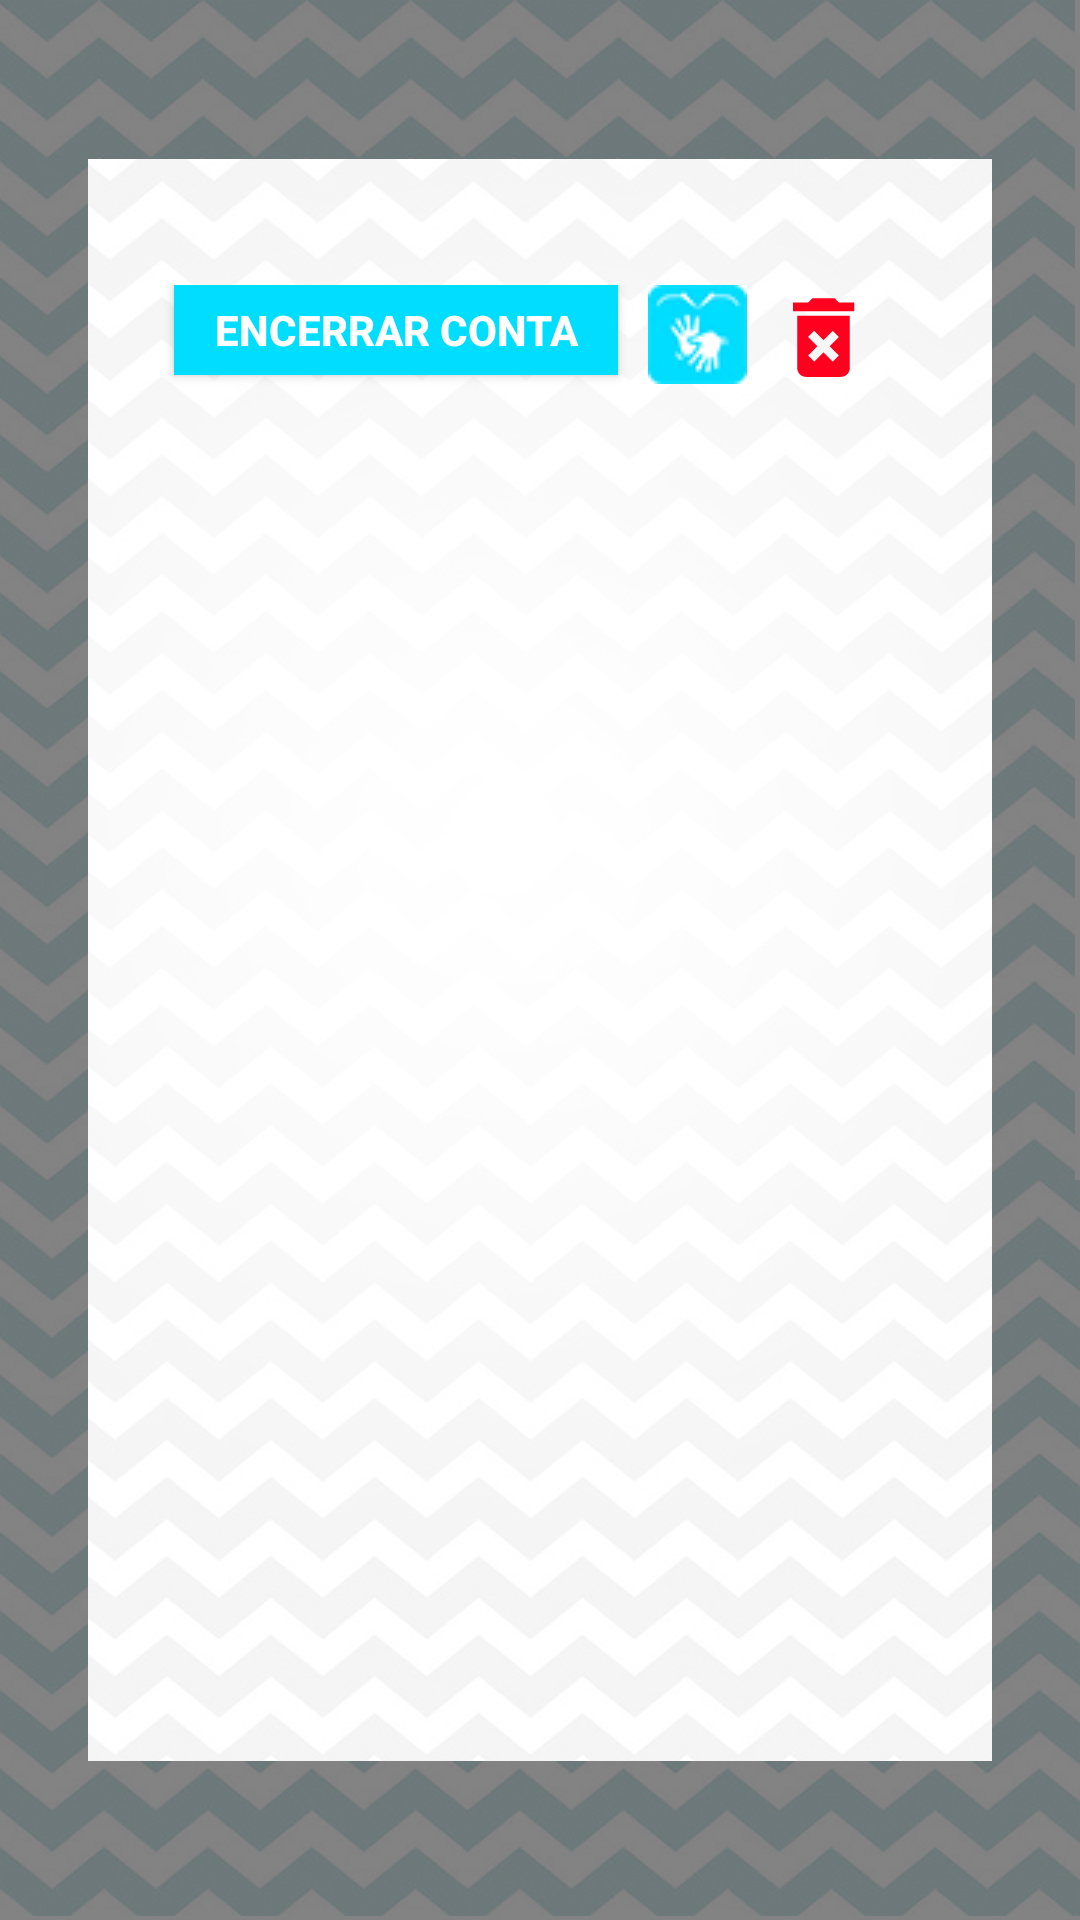

Point at icon controls on the screen. Image size 1080px×1920px, points as (x,y).
delete forever: (824,337)
